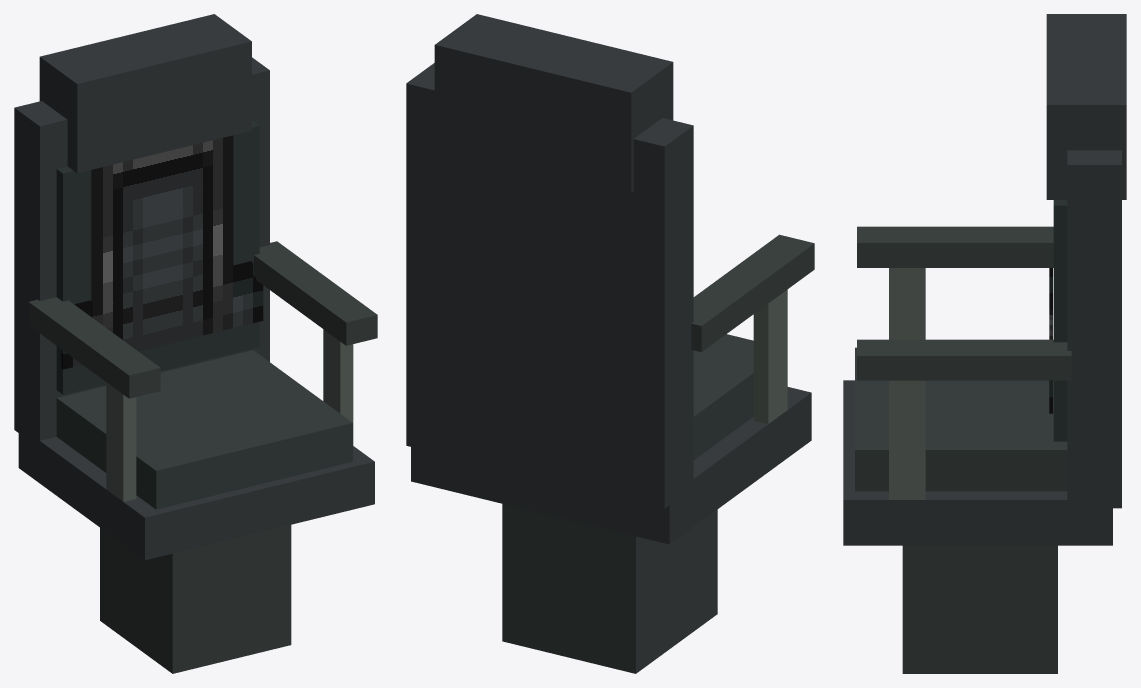
The model's file is CMU3DInteriorCMUSeatBlackfootPilot.glb.
3 renders of one model, left to right at view 1: azimuth 30°, elevation 25°; view 2: azimuth 150°, elevation 25°; view 3: azimuth 270°, elevation 25°, orthographic. The views are drawn at different scales.
Visible parts, largest first — view 1: source seat upholstery, cushion, headrest, bolted pedestal, seat pan, reinforced back, back cushion, arm rest (×2), arm support (×2); view 2: reinforced back, headrest, bolted pedestal, seat pan, arm rest, cushion, arm support; view 3: bolted pedestal, reinforced back, cushion, arm rest (×2), seat pan, headrest, arm support (×2), back cushion.
Part boxes in pixels (left/top/right/bottom): source seat upholstery: left=61, top=135, right=263, bottom=369; cushion: left=56, top=350, right=352, bottom=509; headrest: left=39, top=14, right=251, bottom=173; bolted pedestal: left=100, top=525, right=291, bottom=673; seat pan: left=18, top=425, right=374, bottom=560; reinforced back: left=14, top=57, right=269, bottom=440; back cushion: left=56, top=121, right=259, bottom=394; arm rest (×2): left=28, top=241, right=377, bottom=398; arm support (×2): left=106, top=329, right=353, bottom=501; reinforced back: left=406, top=63, right=693, bottom=508; headrest: left=434, top=14, right=673, bottom=192; bolted pedestal: left=502, top=504, right=717, bottom=673; seat pan: left=411, top=387, right=811, bottom=544; arm rest: left=691, top=234, right=814, bottom=352; cushion: left=693, top=334, right=753, bottom=459; arm support: left=753, top=289, right=787, bottom=423; bolted pedestal: left=902, top=545, right=1057, bottom=673; reinforced back: left=1067, top=150, right=1121, bottom=508; cushion: left=855, top=347, right=1067, bottom=491; arm rest (×2): left=857, top=226, right=1071, bottom=380; seat pan: left=843, top=380, right=1112, bottom=545; headrest: left=1046, top=14, right=1126, bottom=199; arm support (×2): left=889, top=268, right=925, bottom=499; back cushion: left=1053, top=200, right=1067, bottom=441.
Bounding box in the file's own units: 0.67 × 1.41 × 0.62.
7 materials, 1 textured.
